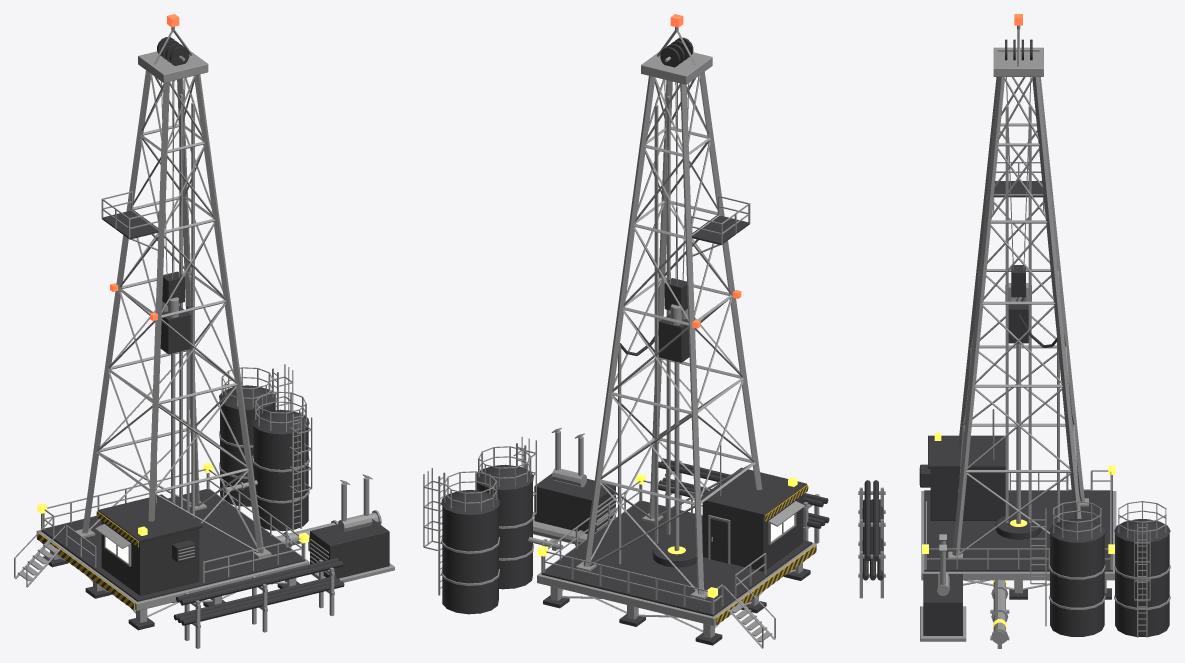
The model's file is drill_rig.glb.
3 renders of one model, left to right at view 1: azimuth 30°, elevation 25°; view 2: azimuth 150°, elevation 25°; view 3: azimuth 270°, elevation 25°, orthographic. The views are drawn at different scales.
Parts seen in each view (by area): view 1: drill_rig; view 2: drill_rig; view 3: drill_rig.
Part boxes in pixels (x1,y1,x2,y2): drill_rig: (14, 14, 394, 648); drill_rig: (423, 14, 829, 648); drill_rig: (858, 14, 1170, 648).
Bounding box in the file's own units: 17.04 × 28.76 × 14.9.
